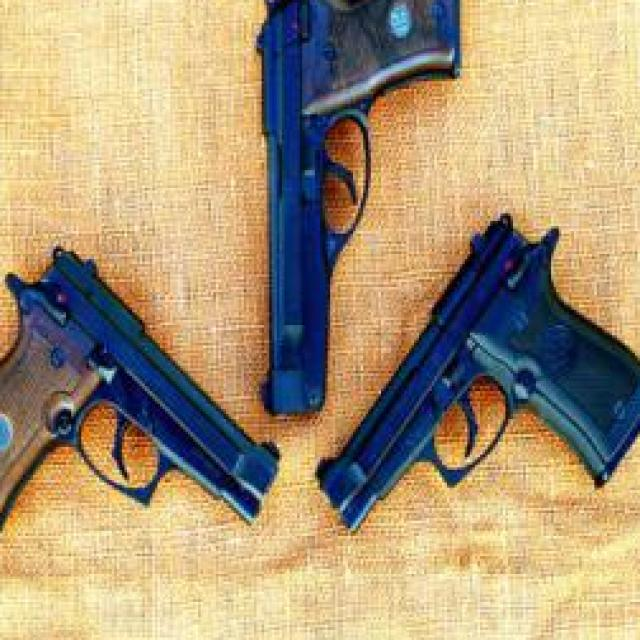pistol: (317, 208, 640, 538), (0, 241, 285, 571), (254, 0, 465, 419)
